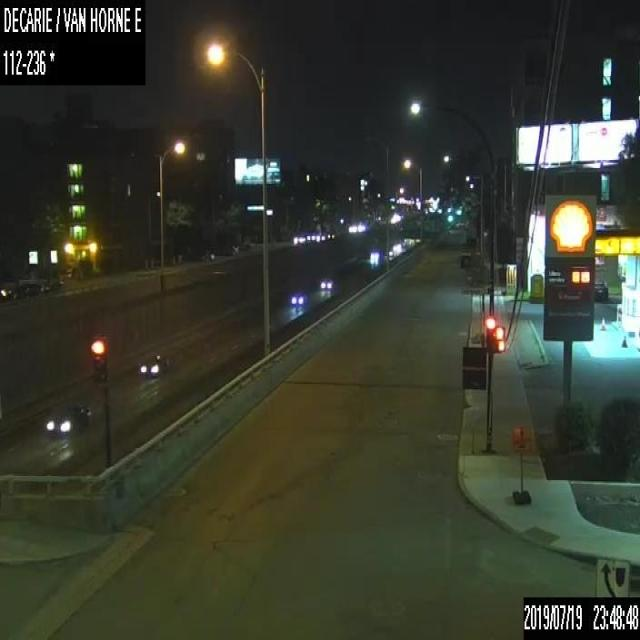construction: (509, 424, 530, 503), (621, 332, 627, 347), (600, 315, 605, 330)
vehicle: (44, 404, 92, 435), (137, 350, 173, 374), (592, 276, 607, 303), (288, 288, 306, 304), (318, 274, 334, 290), (392, 240, 405, 252), (369, 248, 382, 259), (292, 233, 305, 243), (0, 286, 10, 298)
